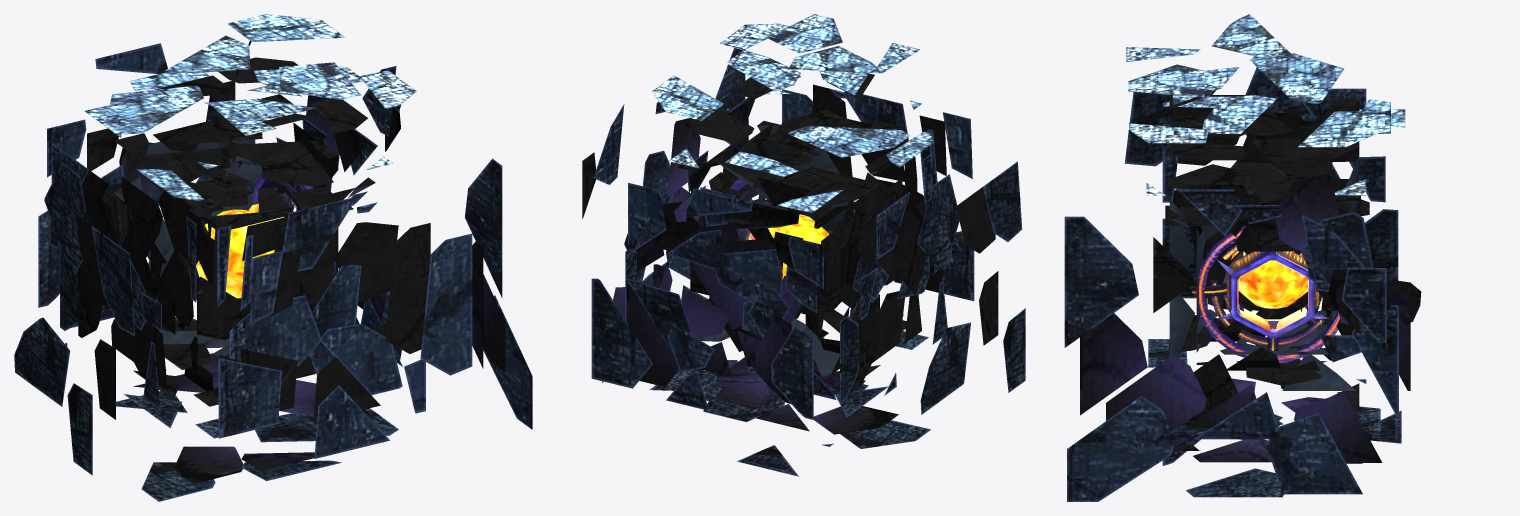
Rendered from cubikon.glb.
3 views of the same model, side by side, from view 1: azimuth 30°, elevation 25°; view 2: azimuth 150°, elevation 25°; view 3: azimuth 270°, elevation 25° (orthographic). The views are drawn at different scales.
Parts seen in each view (by area): view 1: cubikon-full-stack001; view 2: cubikon-full-stack001; view 3: cubikon-full-stack001.
Boxes of the visible parts, x1,y1,x2,y2 form: cubikon-full-stack001: (14,14,532,501); cubikon-full-stack001: (582,14,1025,476); cubikon-full-stack001: (1064,14,1421,501).
Size of the model in its own units: 465 by 470 by 459.
1 material, 1 textured.
